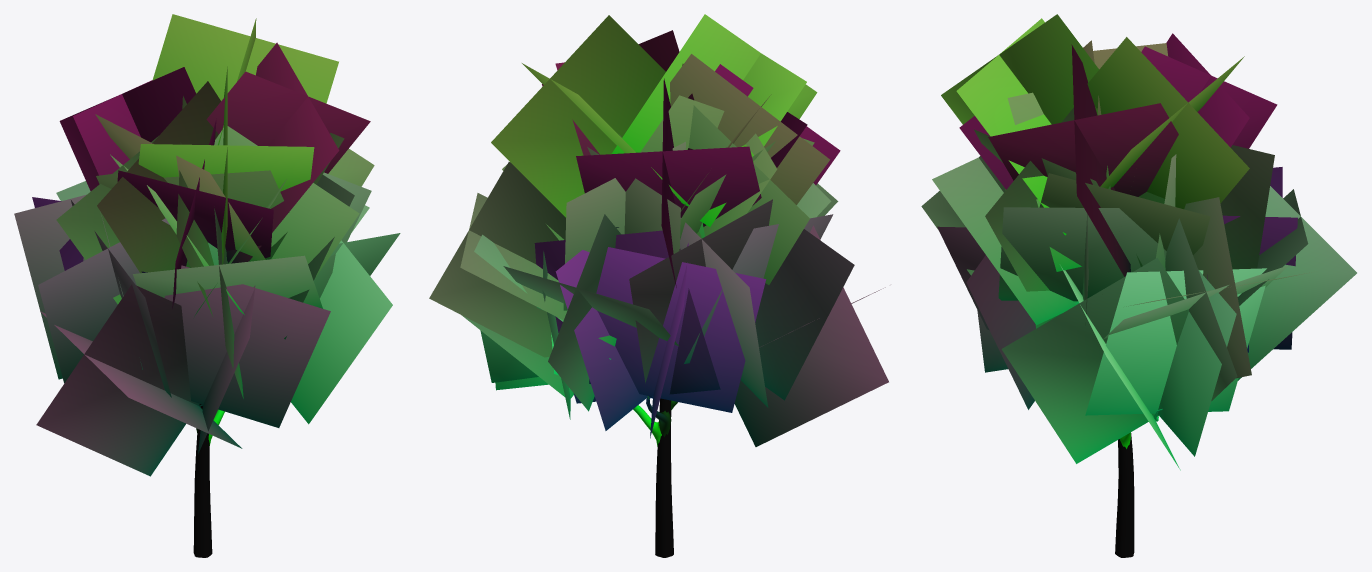
The model's file is M_P12_Tree_13.fbx.
The picture shows the model from 3 angles, left to right: view 1: azimuth 30°, elevation 25°; view 2: azimuth 150°, elevation 25°; view 3: azimuth 270°, elevation 25°; orthographic projection. The views are drawn at different scales.
Parts seen in each view (by area): view 1: Tree_13; view 2: Tree_13; view 3: Tree_13.
Boxes of the visible parts, x1,y1,x2,y2 form: Tree_13: (14, 14, 400, 557); Tree_13: (429, 14, 888, 557); Tree_13: (921, 14, 1356, 557).
Bounding box in the file's own units: 172 × 224 × 163.
